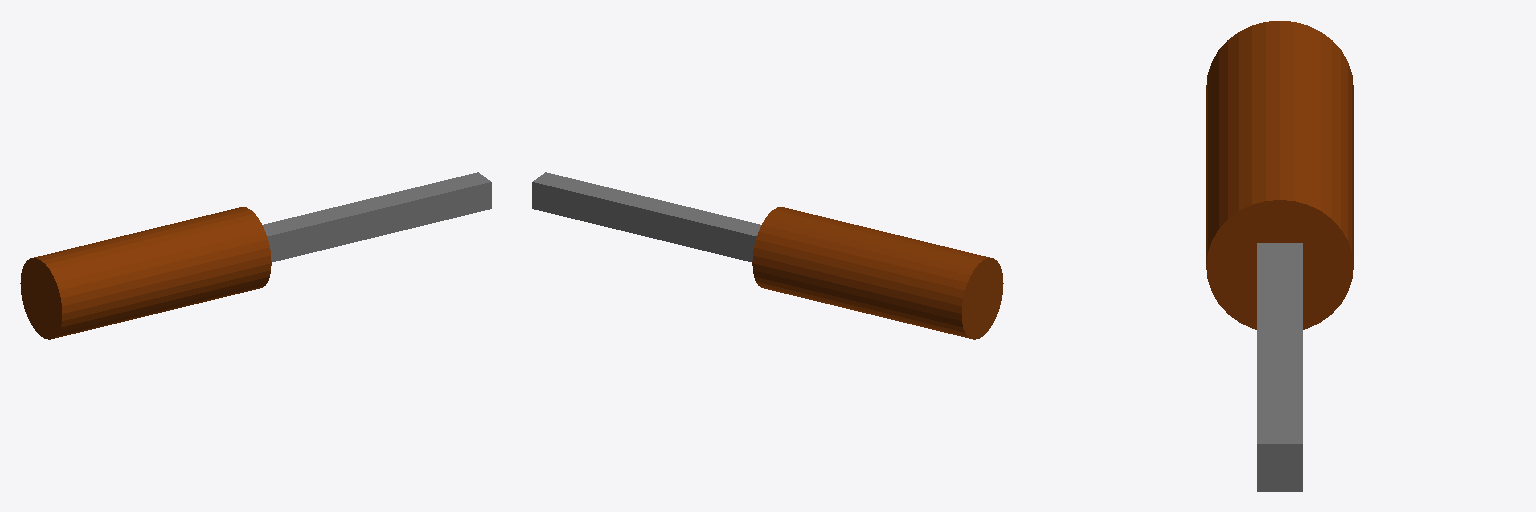
robot.urdf — handle_head:
<?xml version="1.0"?>
<robot name="handle_head">

  <link name="handle_head">
    <!-- Handle -->
    <visual>
              <origin xyz="0 0 0" rpy="0 -1.5707963267948966 0"/>
        <geometry>
          <cylinder length="0.11305456341433198" radius="0.019659357974804934"/>
        </geometry>
        
      <material name="brown">
        <color rgba="0.55 0.27 0.07 1.0"/>
      </material>
    </visual>
    <collision>
              <origin xyz="0 0 0" rpy="0 -1.5707963267948966 0"/>
        <geometry>
          <cylinder length="0.11305456341433198" radius="0.019659357974804934"/>
        </geometry>
        
    </collision>

    <!-- Head -->
    <visual>
              <origin xyz="0.11984215261303877 0 0" rpy="0 0 0"/>
        <geometry>
          <box size="0.12662974181174555 0.012373068993290218 0.014038497197119554"/>
        </geometry>
        
      <material name="gray">
        <color rgba="0.5 0.5 0.5 1.0"/>
      </material>
    </visual>
    <collision>
              <origin xyz="0.11984215261303877 0 0" rpy="0 0 0"/>
        <geometry>
          <box size="0.12662974181174555 0.012373068993290218 0.014038497197119554"/>
        </geometry>
        
    </collision>

    <inertial>
      <origin xyz="0.02354326662404616 0 0" rpy="0 0 0"/>
      <mass value="0.10434713137270686"/>
      <inertia ixx="1.6191445566524013e-05" iyy="0.0004093994459513615" izz="0.0004093243050399544" ixy="0" ixz="0" iyz="0"/>
    </inertial>
  </link>

</robot>

--- Facts derived from the render (not from the file) ---
Views: 3 orthographic renders of the robot side by side, from view 1: azimuth 30°, elevation 25°; view 2: azimuth 150°, elevation 25°; view 3: azimuth 270°, elevation 25°.
Model handle_head with 1 links and 0 joints (none), rooted at handle_head, posed every joint at zero.
Links seen in each view (by area): view 1: handle_head; view 2: handle_head; view 3: handle_head.
Boxes of the visible links, bbox=[...] form: handle_head: bbox=[20, 172, 491, 339]; handle_head: bbox=[532, 172, 1003, 339]; handle_head: bbox=[1206, 21, 1353, 491].
Bounding box of the posed robot: 0.2397 × 0.0393 × 0.0393 m (x, y, z).
Geometry: primitives only (box / cylinder / sphere), no mesh files.
